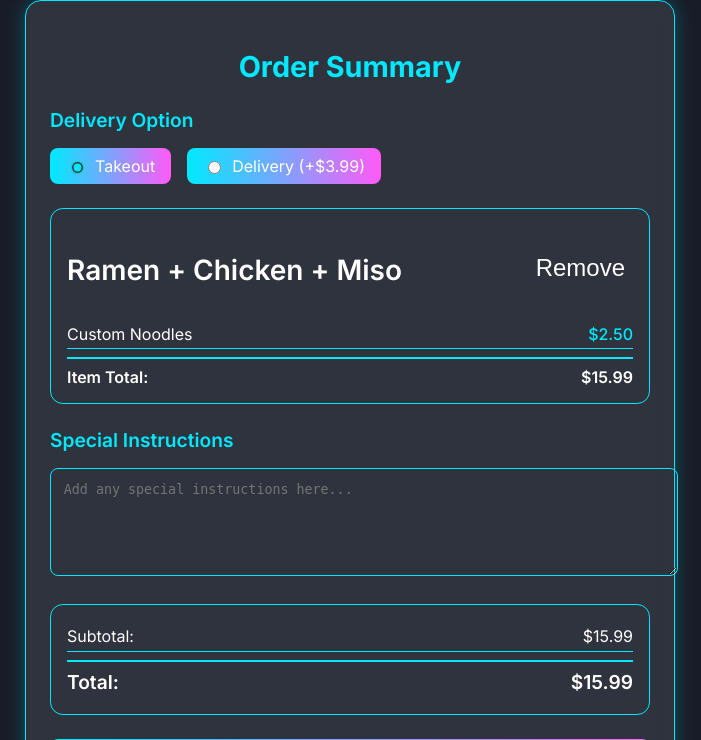
Scenario: Cart › allows selecting delivery option
Expected: the radio button labelled "Takeout" is checked, top-left (71, 161), bottom-right (84, 174)
Click the radio button labelled "Delivery (+$3.99)" at (215, 167), box top-left (208, 161), bottom-right (221, 174)
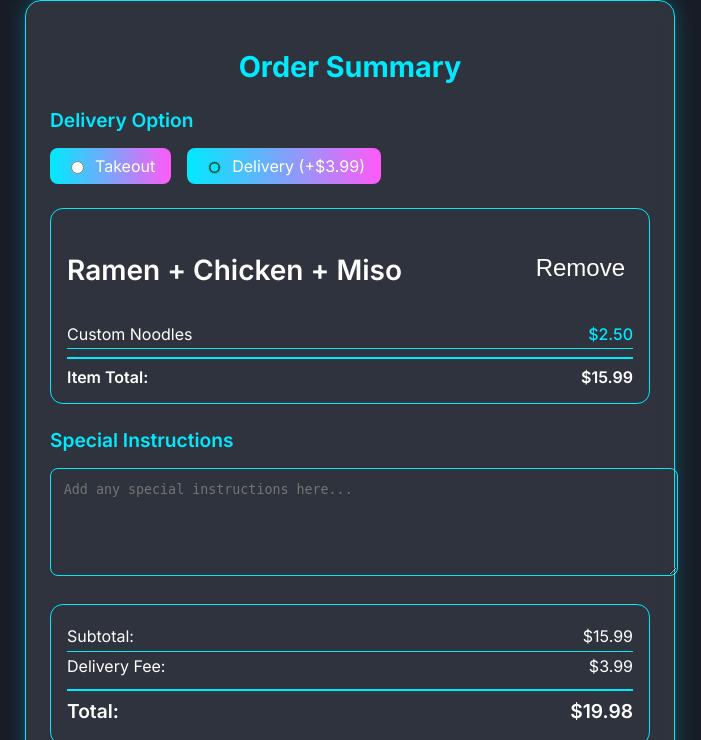
Result: the radio button labelled "Delivery (+$3.99)" is checked at top-left (208, 161), bottom-right (221, 174)
Result: the radio button labelled "Takeout" is not checked at top-left (71, 161), bottom-right (84, 174)
